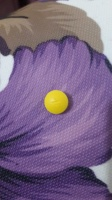Nurofen: (43, 88, 69, 115)
